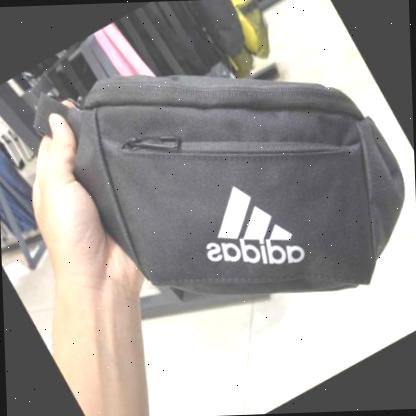bag: (24, 58, 409, 312)
